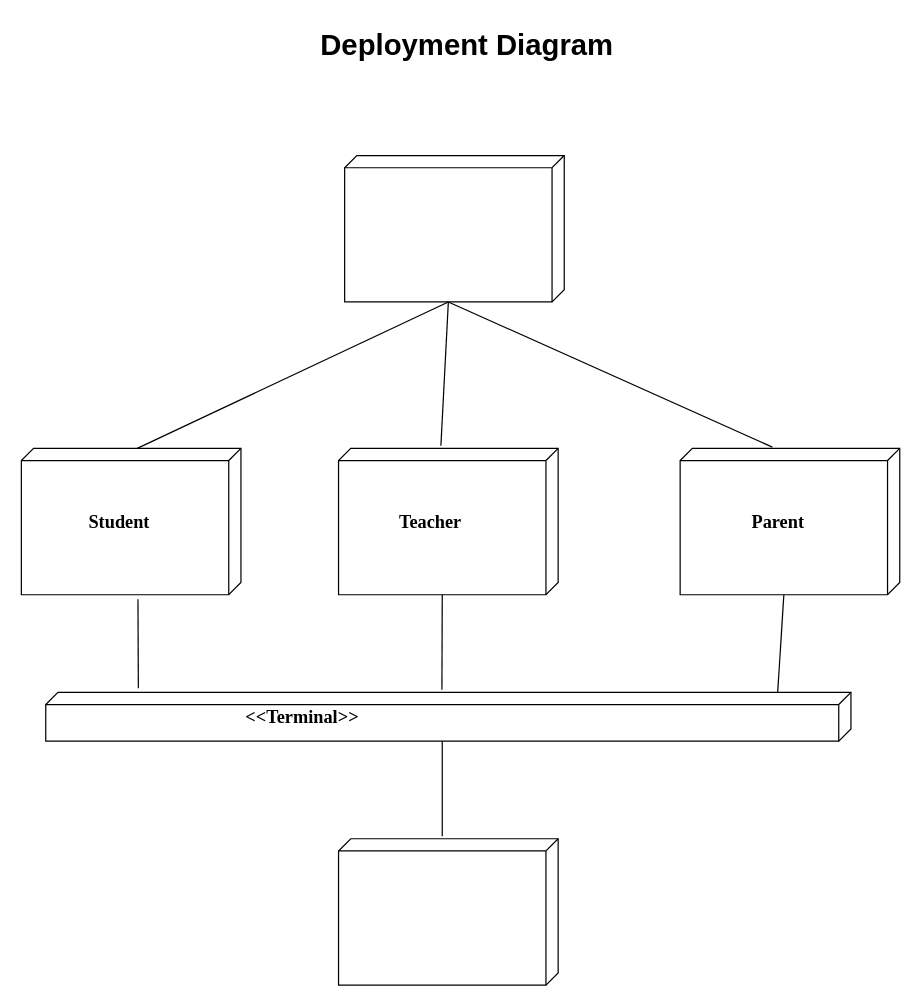
Some shapes in this 921 by 1007 pixel diagram are drawn without their labels. The shapes that lost their labels are listed below. From the top down, each one's centre as x and y in pixels, then its label:
the point at 453,228: Student Management System
the point at 447,911: Database Server
